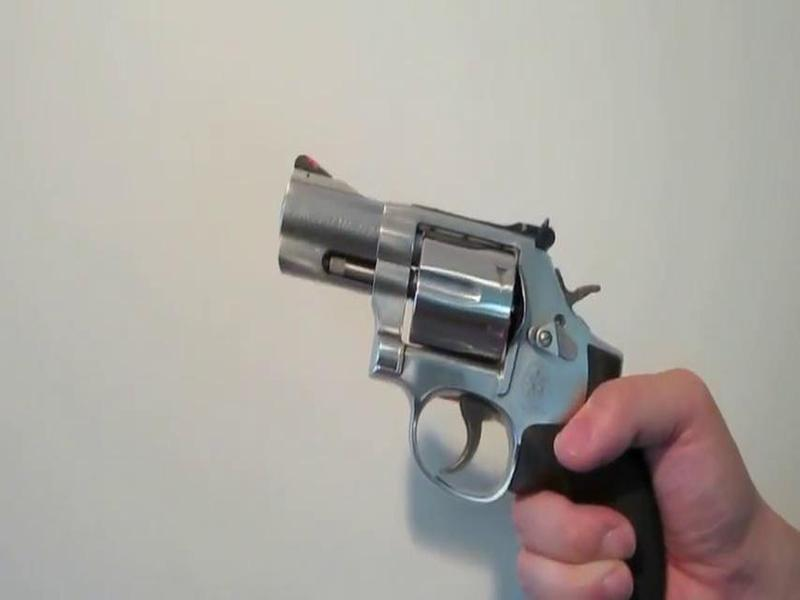Revolver: (281, 128, 687, 533)
